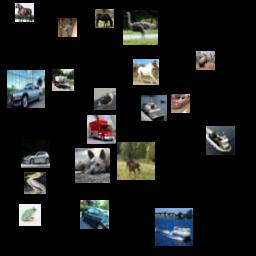automobile: (7, 70, 45, 108), (80, 200, 109, 229), (21, 139, 50, 168), (171, 94, 190, 113)
bird: (123, 10, 158, 45), (94, 88, 116, 110), (24, 172, 46, 194)
deer: (196, 51, 215, 70)
dog: (75, 148, 110, 183), (58, 18, 77, 37)
frog: (19, 204, 41, 226)
ship: (155, 208, 193, 246), (206, 126, 235, 155), (141, 95, 167, 121)
truck: (87, 115, 116, 144), (52, 69, 74, 91)
